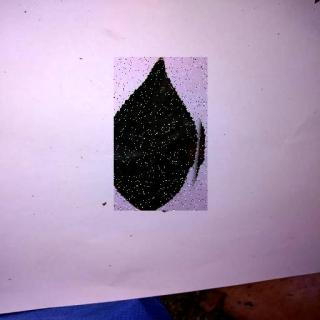Anthracnose: (115, 58, 209, 212)
